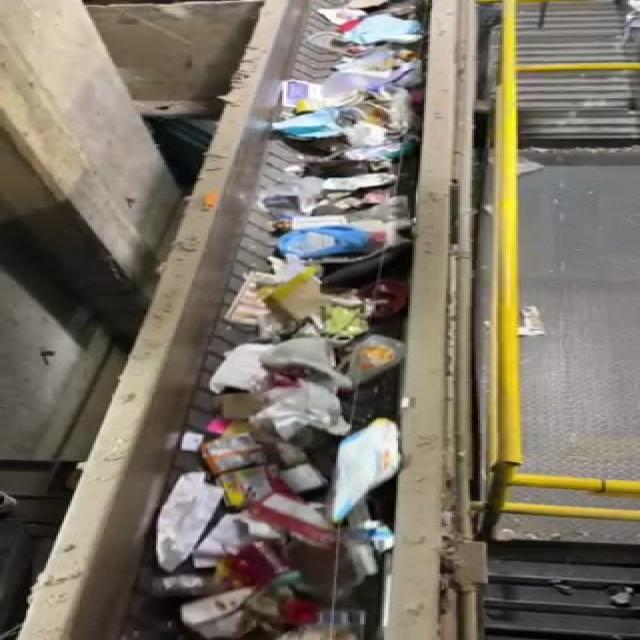hdpe: (327, 412, 412, 526)
paper: (158, 582, 314, 640), (145, 470, 220, 573)
pp: (182, 420, 310, 512)
